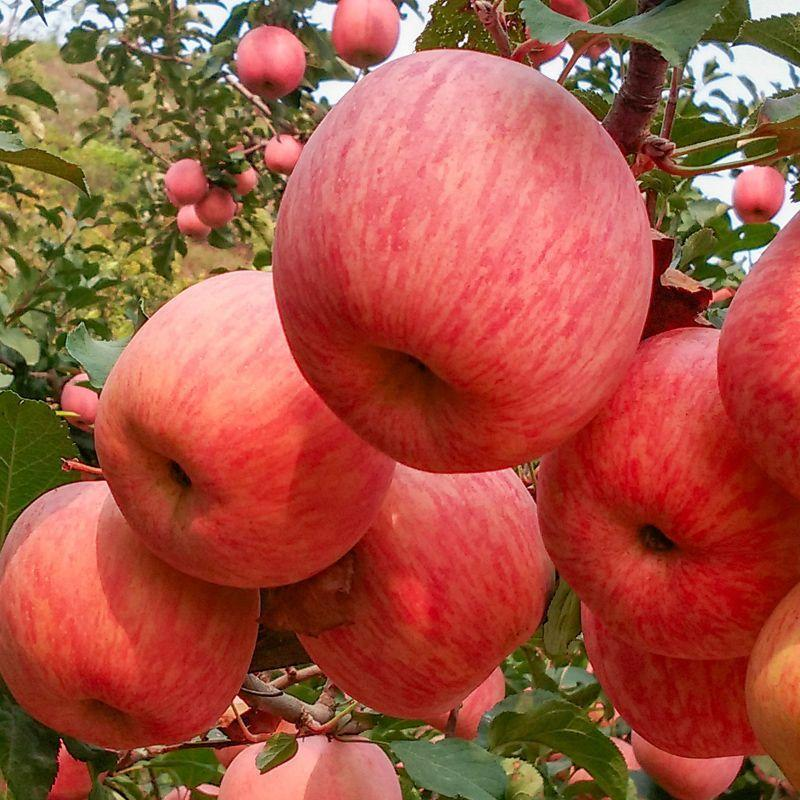apple: (276, 48, 652, 482), (97, 267, 394, 588), (537, 329, 798, 658), (2, 481, 264, 748), (288, 463, 556, 715), (574, 612, 775, 758), (234, 25, 306, 96), (329, 2, 402, 67), (728, 165, 784, 224), (164, 156, 208, 208), (263, 133, 303, 175)
